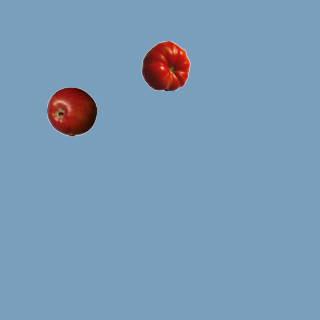Apple Braeburn: (46, 86, 96, 136)
Tomato 3: (140, 40, 190, 90)
